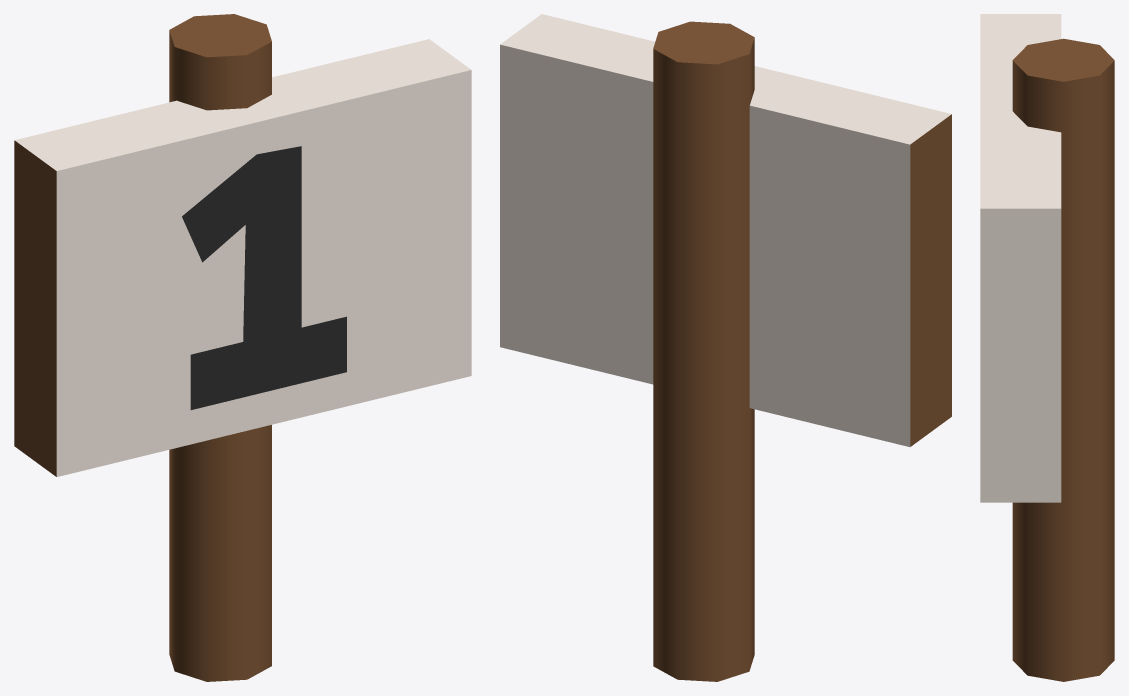
File: nameplate_01.FBX
3 views of the same model, side by side, from view 1: azimuth 30°, elevation 25°; view 2: azimuth 150°, elevation 25°; view 3: azimuth 270°, elevation 25° (orthographic). The views are drawn at different scales.
Parts seen in each view (by area): view 1: nameplate_01; view 2: nameplate_01; view 3: nameplate_01.
Boxes of the visible parts, left/top/right/bottom form: nameplate_01: left=14, top=14, right=471, bottom=681; nameplate_01: left=500, top=14, right=951, bottom=681; nameplate_01: left=980, top=14, right=1114, bottom=681.
Bounding box in the file's own units: 234 × 68.55 × 337.
Materials: 1 (1 with a texture image).
